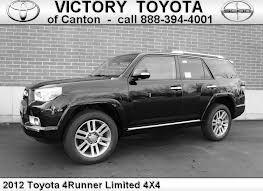car: (17, 48, 249, 164)
